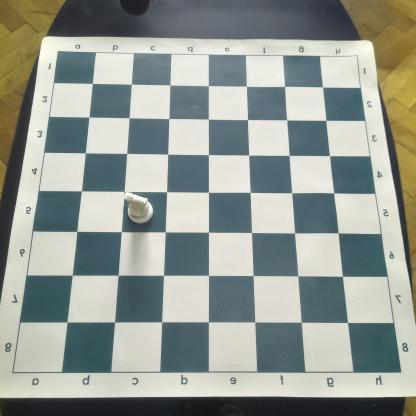white-knight: (124, 192, 154, 225)
